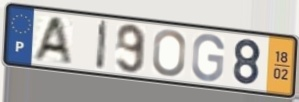8: (232, 37, 262, 87)
9: (115, 23, 148, 76)
A: (29, 16, 74, 65)
G: (189, 32, 226, 83)
I: (94, 17, 110, 73)
O: (151, 28, 188, 78)
